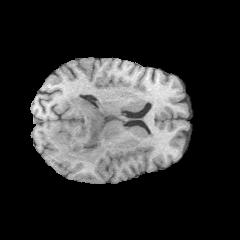glioma: (50, 95, 107, 163)
